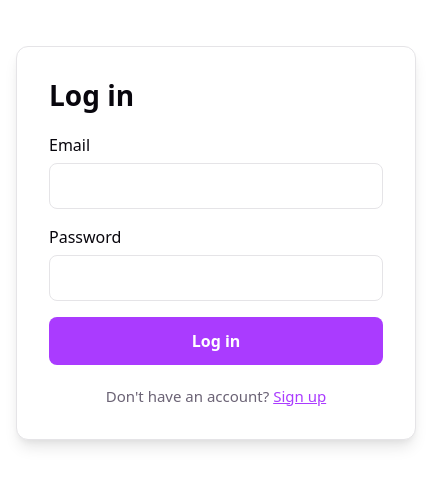
Test: LoginPage › shows a readable message for RATE_LIMITED
Expected: the heading "Log in" is shown, [49,76,134,114]
Type "ada@example.com" into the field labelled "Email" at (216, 186), box [49,162,383,208]
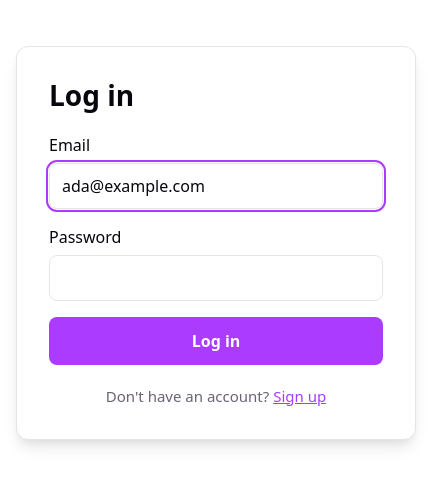
Type "password1" into the password field labelled "Password" at (216, 278), box [49,254,383,300]
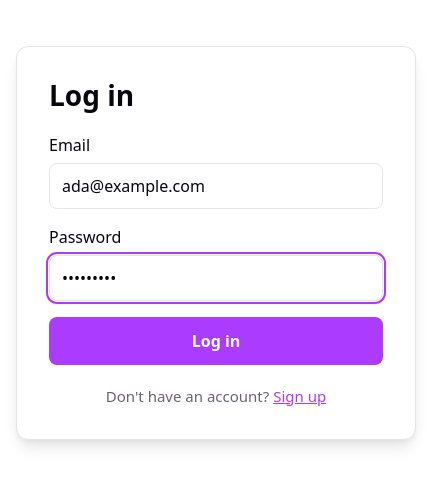
Click the button "Log in" at (216, 340), box [49,316,383,364]
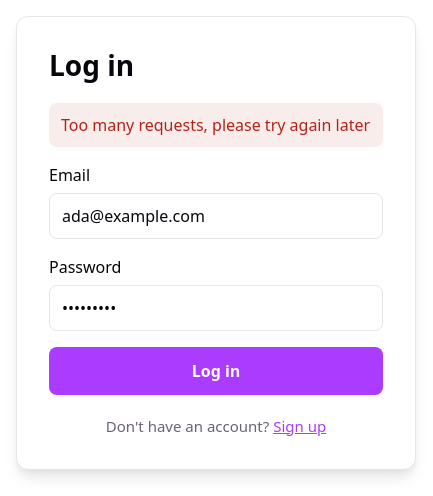
Expected: the message reads "Too many requests, please try again later", [61,114,370,136]
